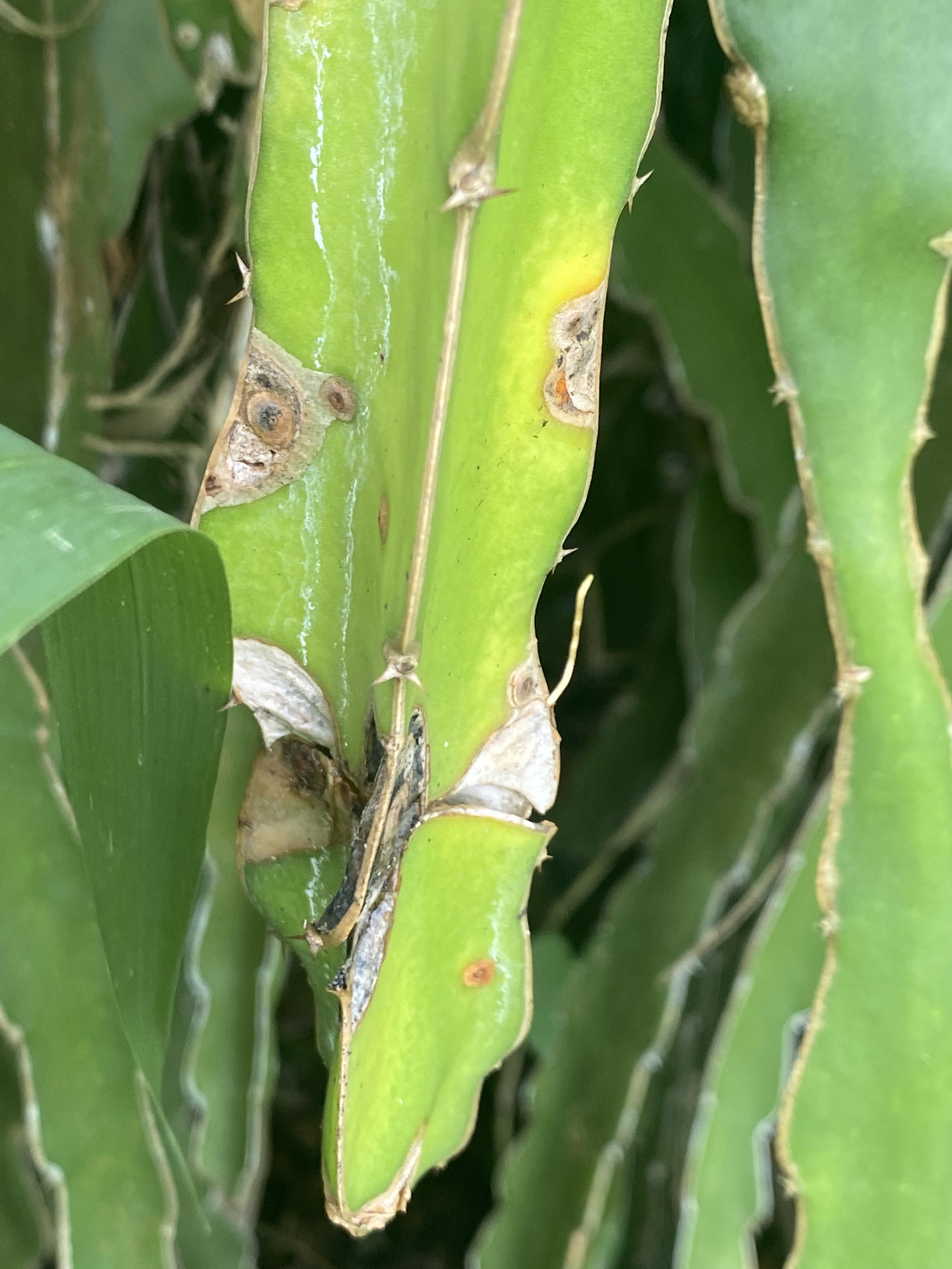stemcanker: (221, 630, 565, 1054), (188, 325, 361, 516), (541, 265, 615, 436), (461, 954, 500, 993)
